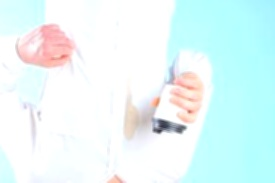coffee: (120, 32, 140, 140)
